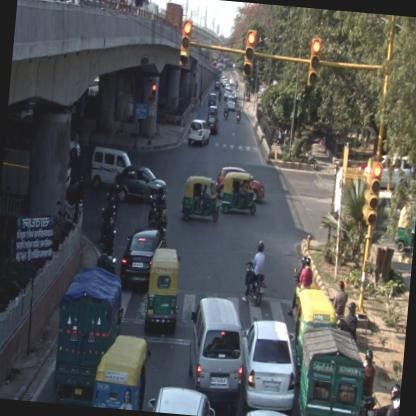car: (184, 294, 249, 400), (236, 318, 300, 412), (118, 224, 167, 293), (115, 164, 170, 205), (147, 384, 218, 415), (91, 146, 132, 190), (188, 118, 212, 147), (207, 115, 219, 134), (226, 95, 236, 112), (206, 93, 218, 107), (214, 82, 220, 89)
motorcycle: (242, 239, 270, 306), (287, 255, 314, 320), (357, 348, 382, 415), (148, 188, 170, 226), (236, 106, 242, 124), (224, 104, 229, 118)
truck: (50, 265, 127, 408), (294, 323, 369, 415)
